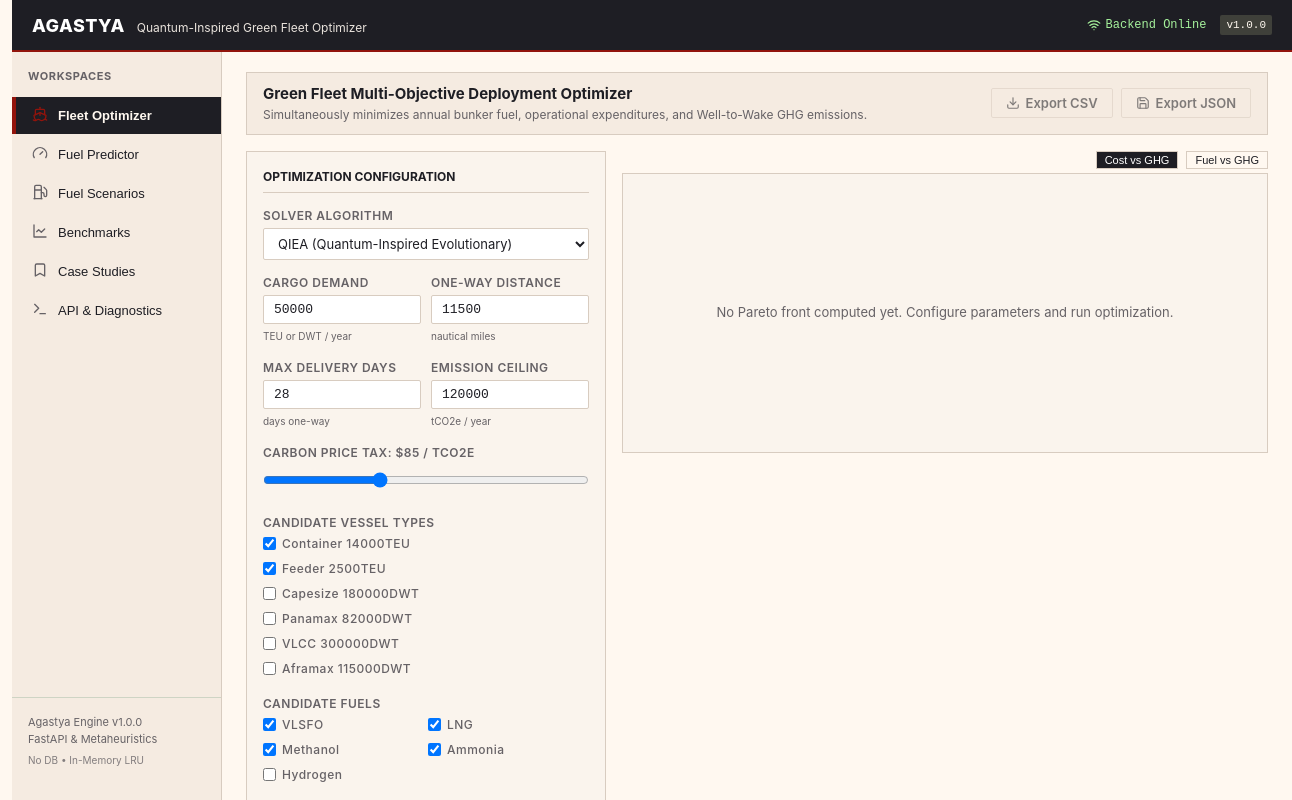
Test case: App Layout and Navigation › navigates between sidebar workspaces
Expected: the heading "Green Fleet Multi-Objective Deployment Optimizer" is shown, [263,84,632,103]
# Click Fuel Predictor
Click the button "Fuel Predictor" at (116, 154), box [12,136,221,172]
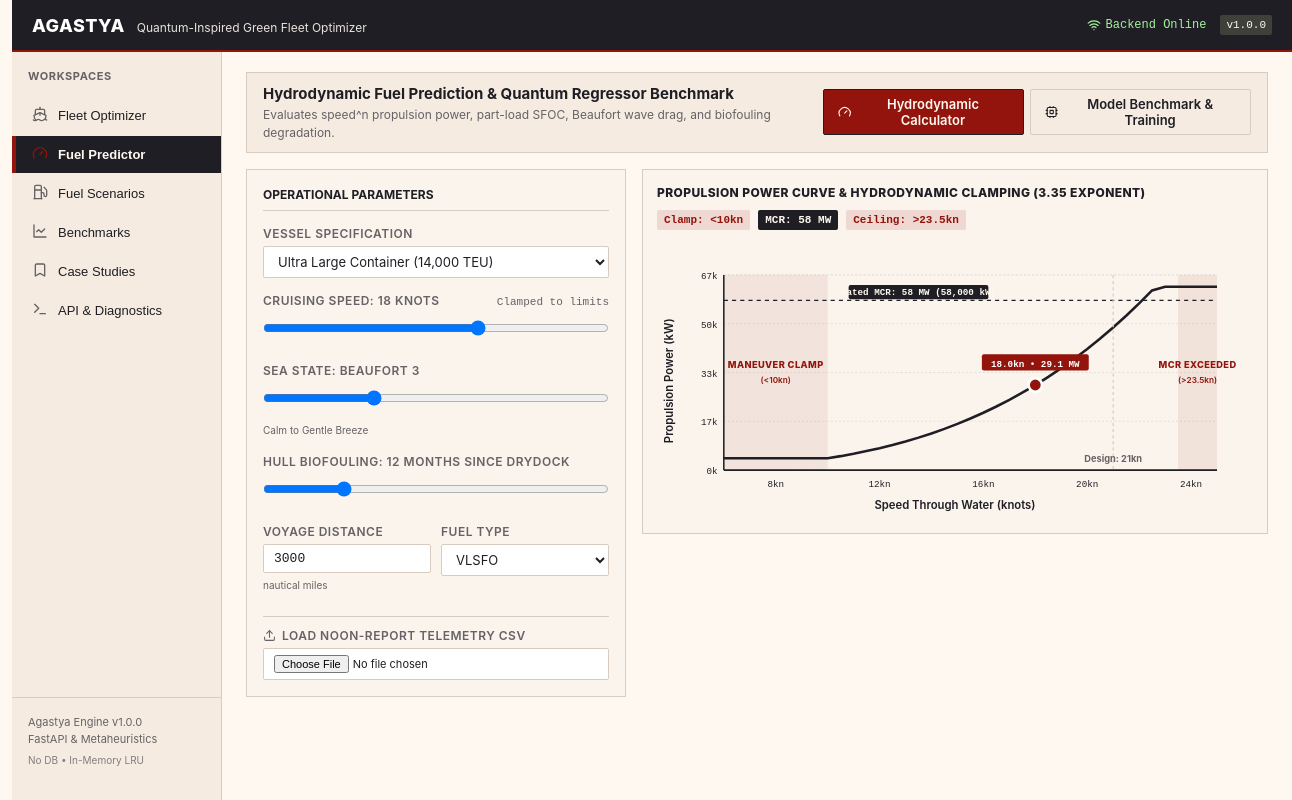
Now the heading "Hydrodynamic Fuel Prediction & Quantum Regressor Benchmark" is shown, box [263,84,734,103]
# Click Case Studies
Click the button "Case Studies" at (116, 271), box [12,252,221,290]
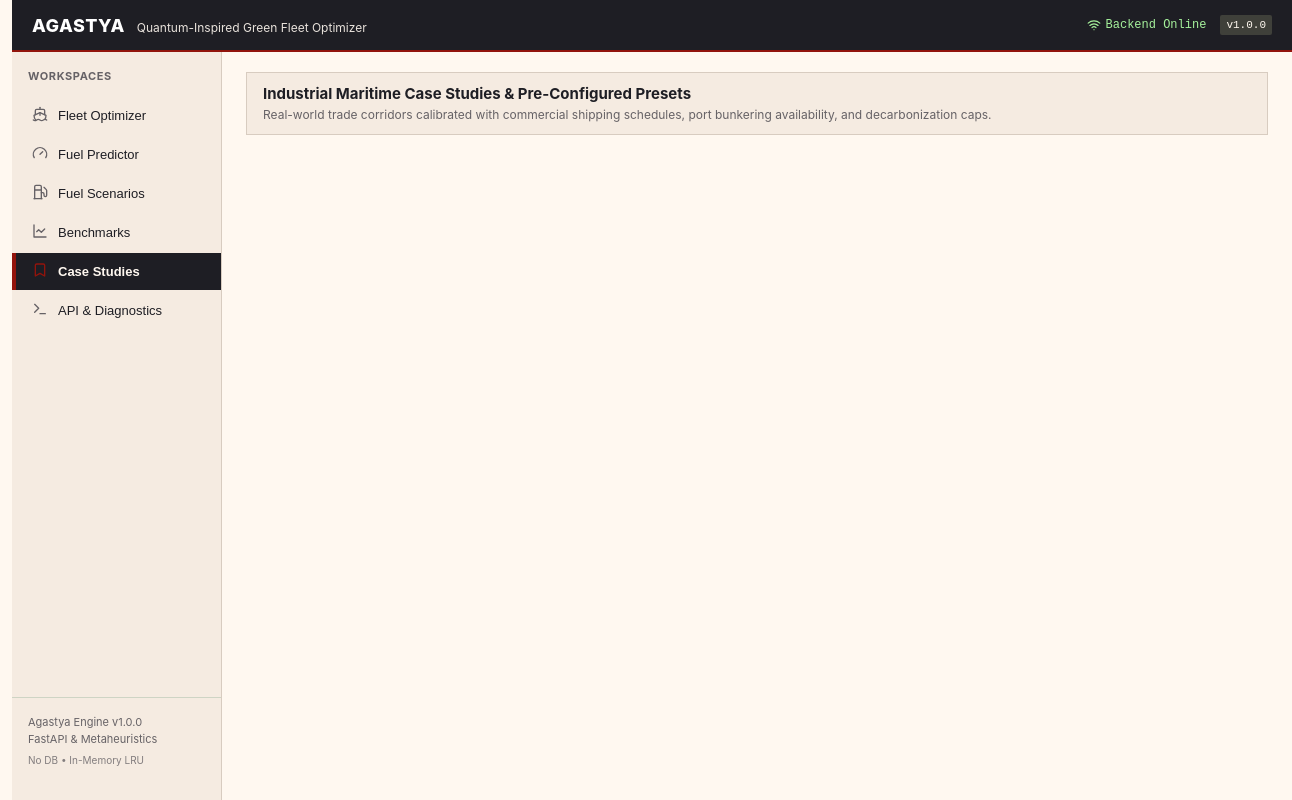
Now the heading "Industrial Maritime Case Studies & Pre-Configured Presets" is shown, box [263,84,691,103]
